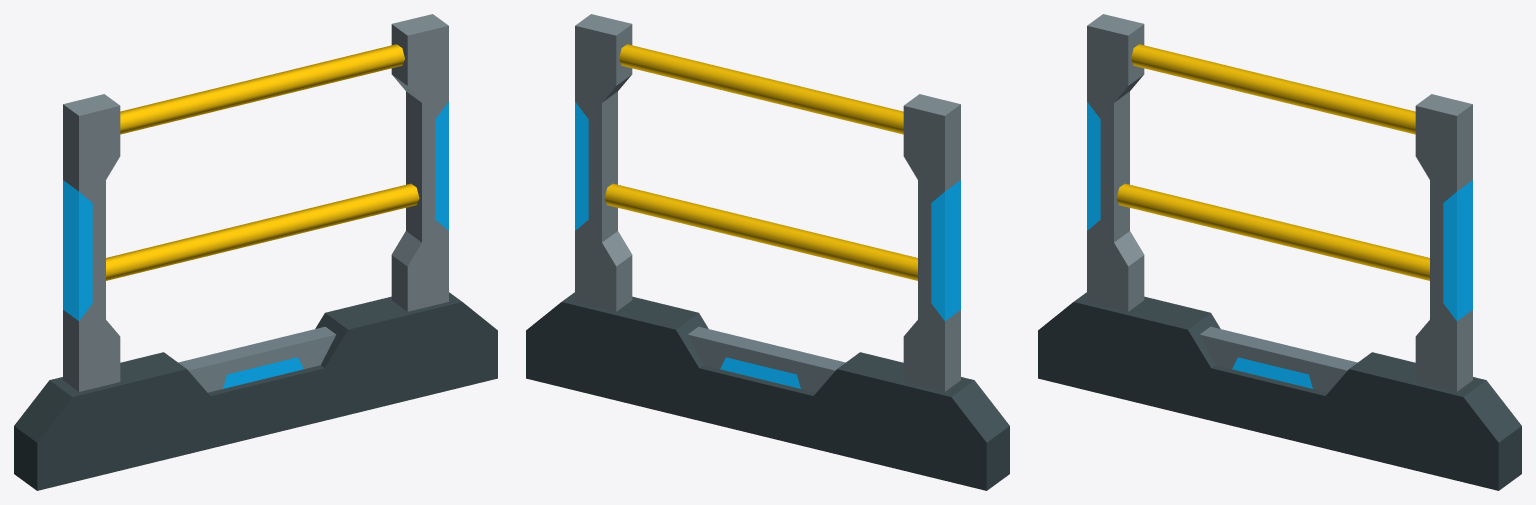
File: Fence_type_C_010.glb
3 renders of one model, left to right at view 1: azimuth 30°, elevation 25°; view 2: azimuth 150°, elevation 25°; view 3: azimuth 330°, elevation 25°, orthographic.
Parts seen in each view (by area): view 1: Fence_type_C_010; view 2: Fence_type_C_010; view 3: Fence_type_C_010.
Part boxes in pixels (box(x1,y1,x2,y2)): Fence_type_C_010: box(14, 14, 497, 490); Fence_type_C_010: box(526, 14, 1009, 490); Fence_type_C_010: box(1038, 14, 1521, 490).
Bounding box in the file's own units: 1.9 × 1.42 × 0.1653.
Materials: 2 (2 with a texture image).
